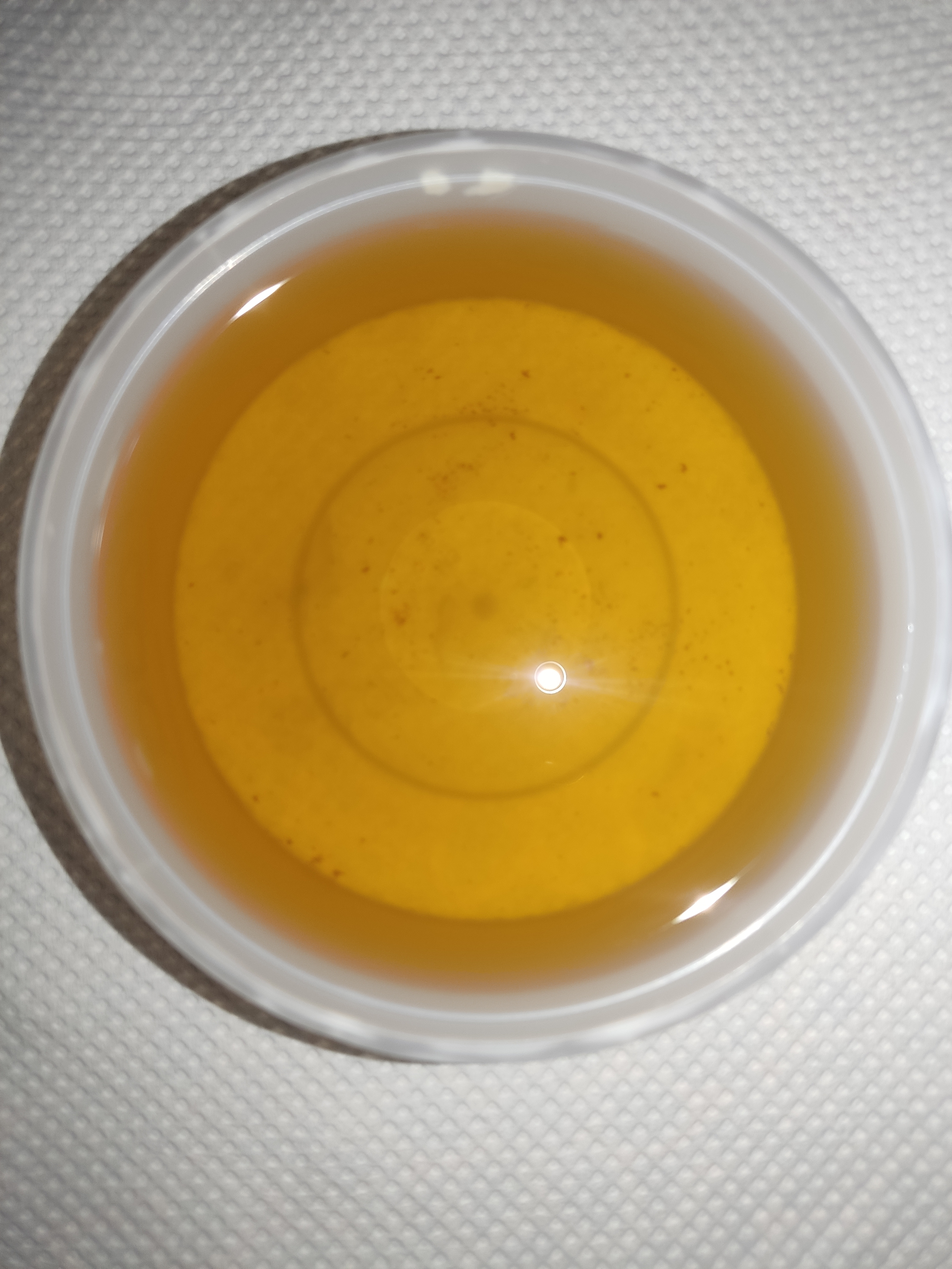reusable: (87, 207, 893, 1005)
